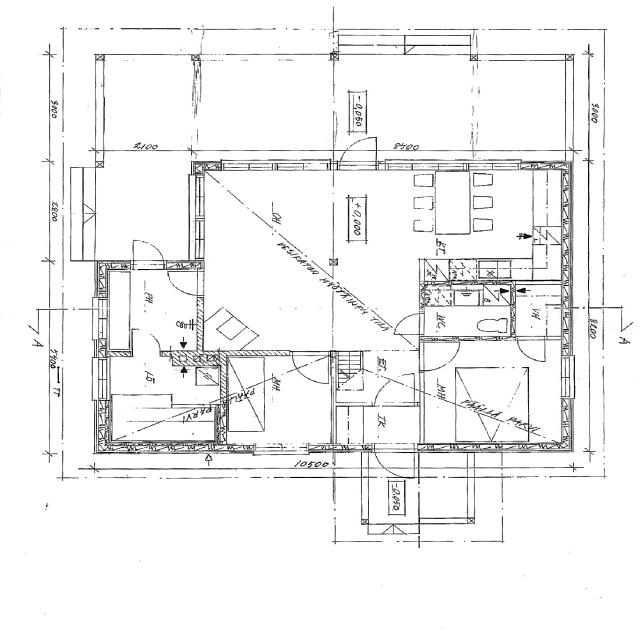door: (372, 372, 418, 406), (373, 445, 416, 480), (289, 350, 330, 385), (420, 339, 462, 372), (127, 236, 168, 268), (386, 308, 424, 338), (165, 269, 202, 297), (516, 336, 549, 363), (339, 134, 380, 154), (130, 328, 164, 352), (382, 371, 417, 390)
window: (377, 159, 458, 173), (92, 356, 112, 402), (252, 445, 309, 458), (475, 159, 524, 172), (127, 468, 150, 474)
zone: (205, 168, 565, 284), (422, 340, 572, 444), (194, 57, 336, 155), (344, 54, 474, 152), (90, 152, 200, 263), (226, 352, 335, 452), (107, 352, 222, 446), (98, 54, 198, 154), (473, 58, 571, 150), (112, 268, 205, 354), (419, 284, 512, 340), (333, 404, 420, 449), (512, 284, 562, 337)
